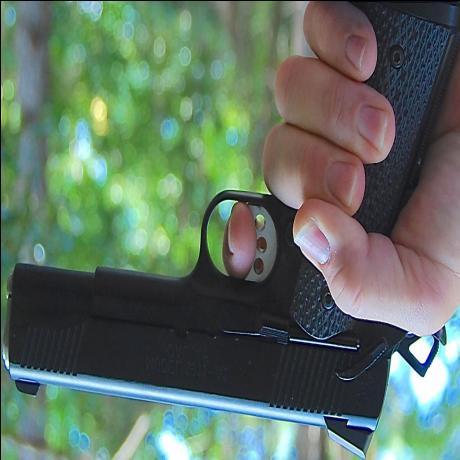1: (221, 1, 460, 340)
weapon: (2, 0, 460, 456)
